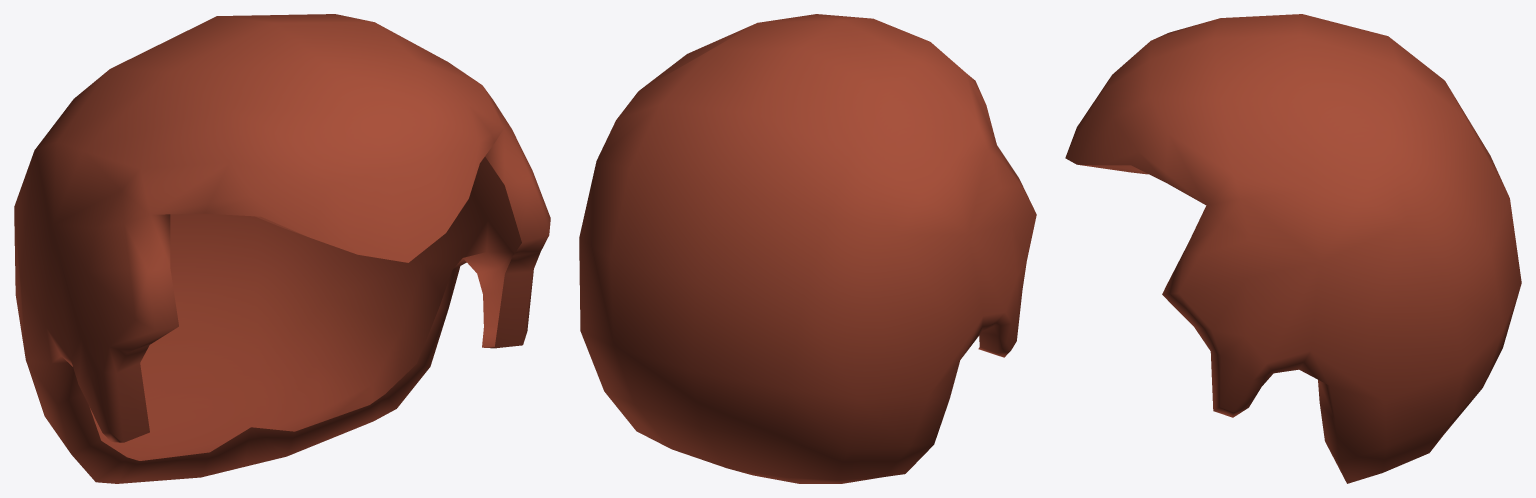
The model's file is Hair_Brown_2.fbx.
3 renders of one model, left to right at view 1: azimuth 30°, elevation 25°; view 2: azimuth 150°, elevation 25°; view 3: azimuth 270°, elevation 25°, orthographic. The views are drawn at different scales.
Visible parts, largest first — view 1: Hair_Brown_2; view 2: Hair_Brown_2; view 3: Hair_Brown_2.
Boxes of the visible parts, left/top/right/bottom form: Hair_Brown_2: left=14, top=14, right=550, bottom=483; Hair_Brown_2: left=579, top=14, right=1036, bottom=483; Hair_Brown_2: left=1065, top=14, right=1521, bottom=483.
Bounding box in the file's own units: 52.84 × 52.69 × 53.88.
